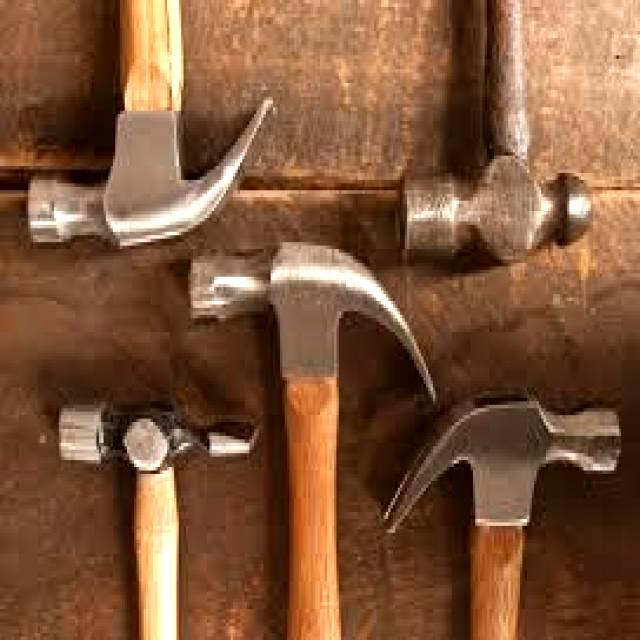hammer: (177, 225, 443, 640), (18, 0, 286, 268), (378, 368, 630, 640), (373, 0, 609, 272), (48, 395, 268, 640)
